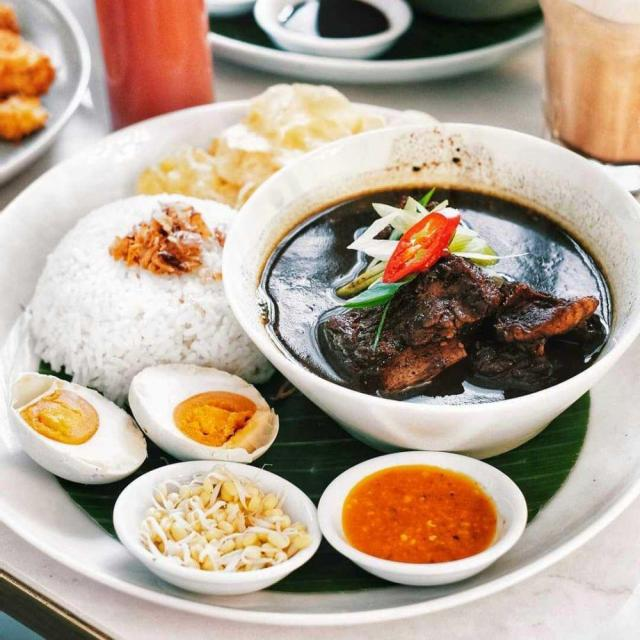Rawon: (253, 162, 622, 400)
